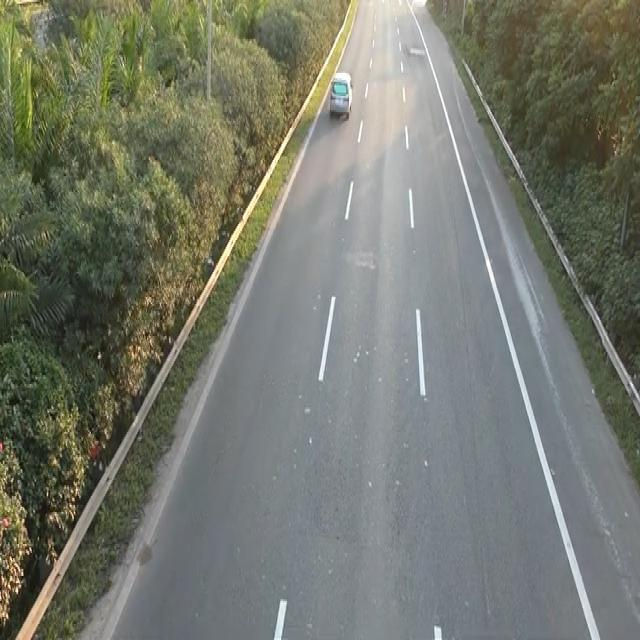lorry: (328, 68, 354, 119)
